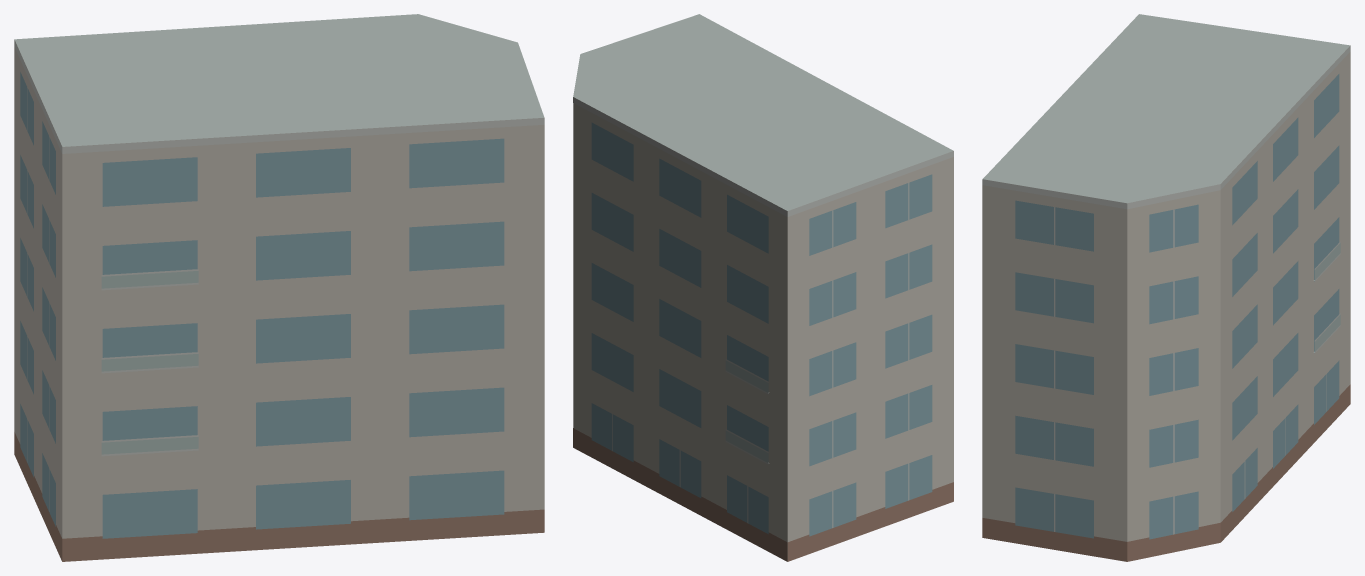
The model's file is survey-upis-32528200.glb.
3 renders of one model, left to right at view 1: azimuth 30°, elevation 25°; view 2: azimuth 150°, elevation 25°; view 3: azimuth 270°, elevation 25°, orthographic. The views are drawn at different scales.
Parts seen in each view (by area): view 1: survey-upis-32528200.tmp; view 2: survey-upis-32528200.tmp; view 3: survey-upis-32528200.tmp.
Boxes of the visible parts, x1=… form: survey-upis-32528200.tmp: x1=14, y1=14, x2=544, y2=561; survey-upis-32528200.tmp: x1=573, y1=14, x2=953, y2=561; survey-upis-32528200.tmp: x1=982, y1=14, x2=1350, y2=561.
Size of the model in its own units: 16.31 by 14.4 by 13.41.
